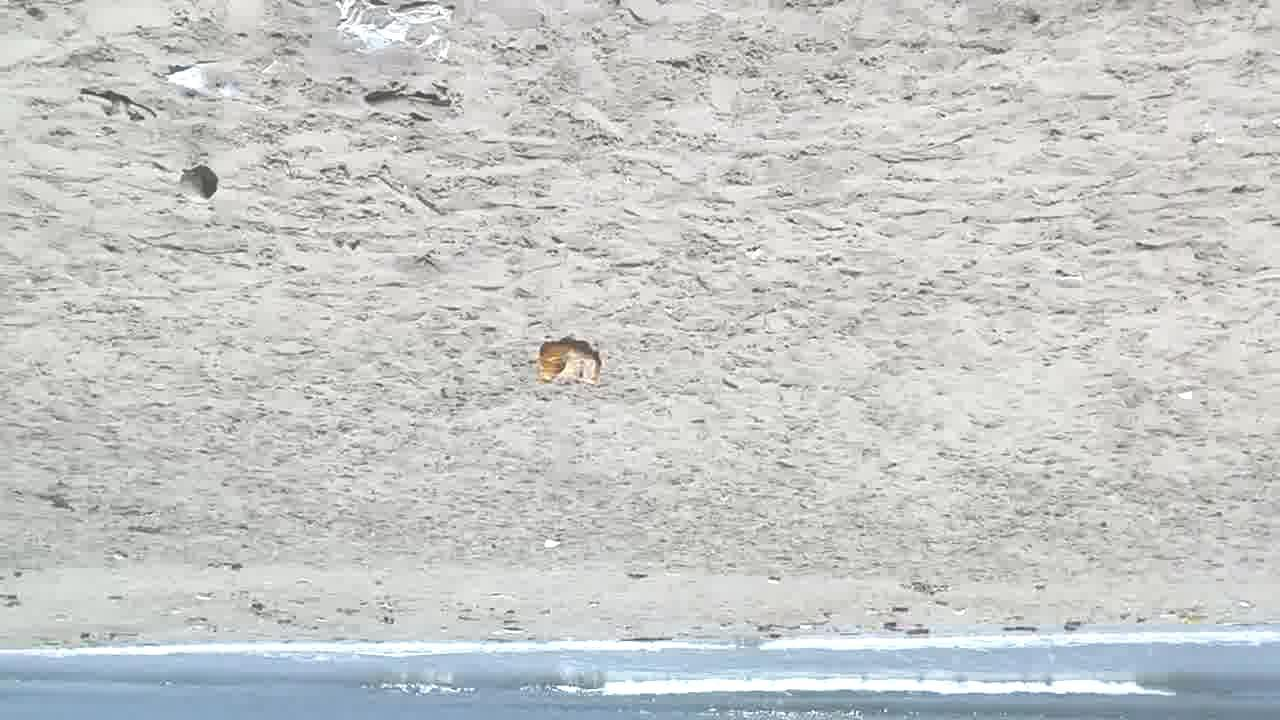obj: (333, 1, 459, 73), (162, 52, 258, 112), (71, 83, 162, 141), (538, 334, 602, 390), (365, 93, 461, 124), (180, 162, 222, 204)
sand/background: (1, 624, 1279, 719)
